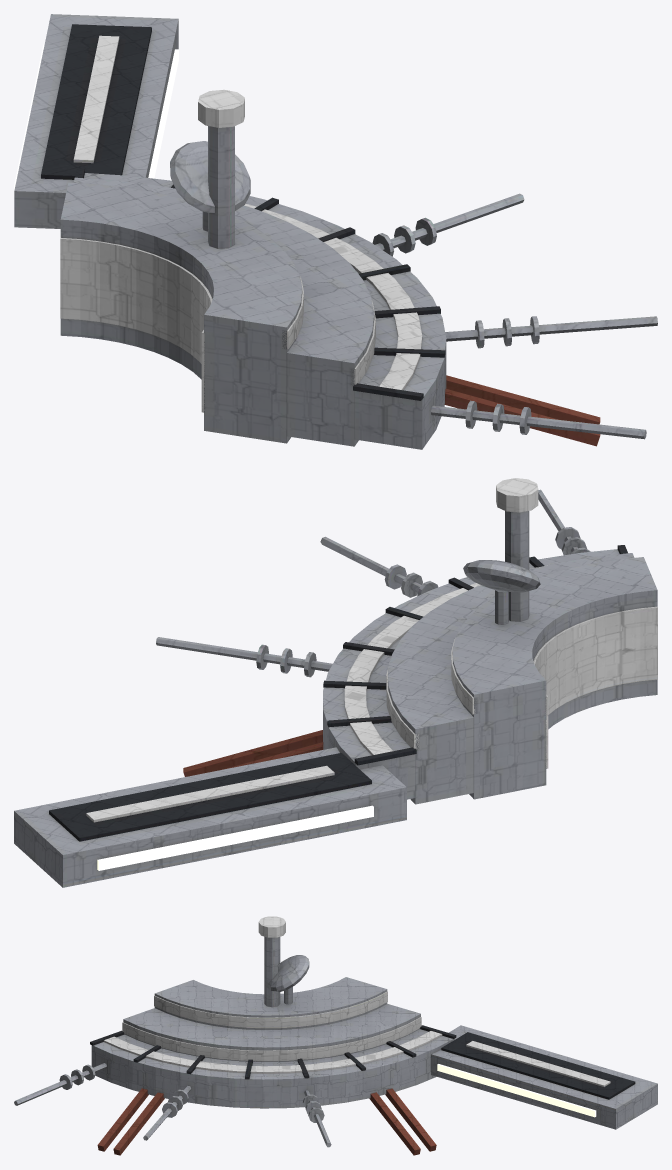
File: empire-dock-1.glb
The picture shows the model from 3 angles, top to bottom: view 1: azimuth 30°, elevation 25°; view 2: azimuth 150°, elevation 25°; view 3: azimuth 270°, elevation 25°; orthographic projection. The views are drawn at different scales.
Parts seen in each view (by area): view 1: DockEmp1; view 2: DockEmp1; view 3: DockEmp1.
Part boxes in pixels (bbox=[...]): DockEmp1: bbox=[14, 14, 657, 449]; DockEmp1: bbox=[14, 478, 657, 887]; DockEmp1: bbox=[14, 916, 657, 1155].
Size of the model in its own units: 1.29 by 0.7994 by 2.81.
Materials: 5 (5 with a texture image).
